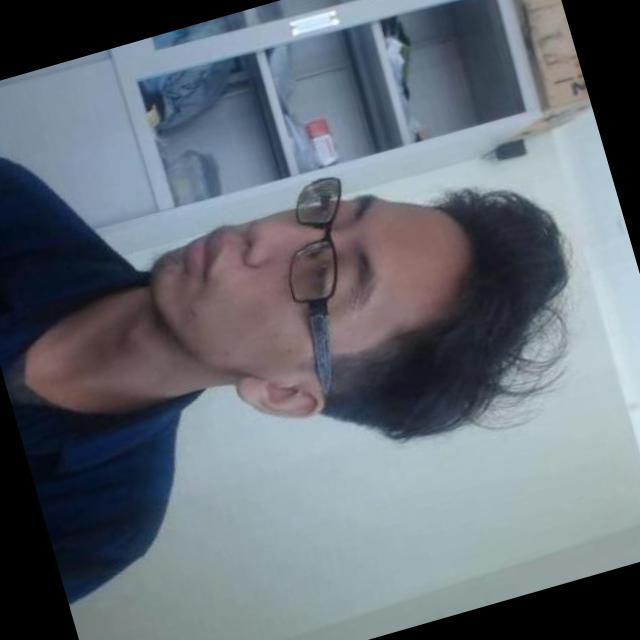bareface: (93, 80, 616, 534)
